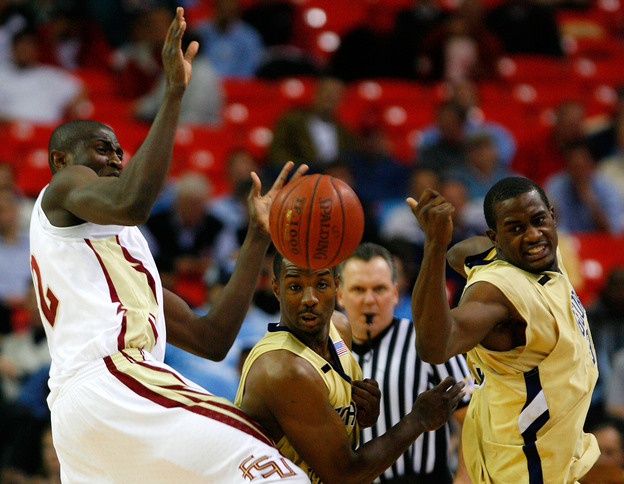basketball: (269, 174, 363, 269)
